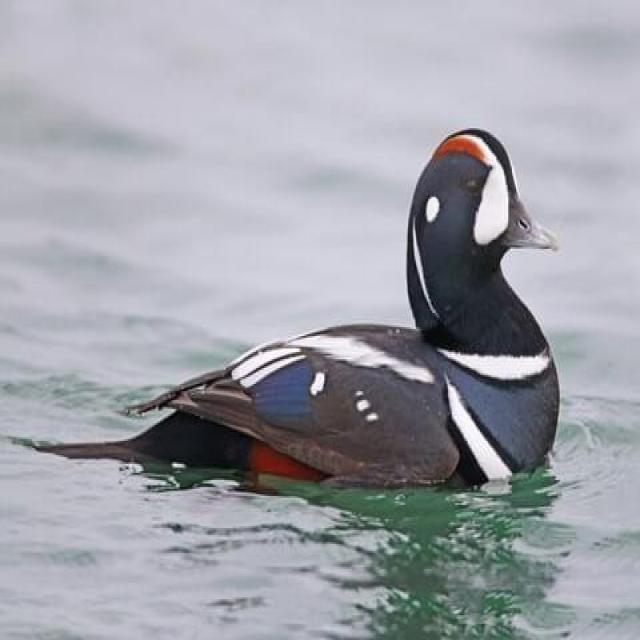Duck: (70, 119, 565, 510)
